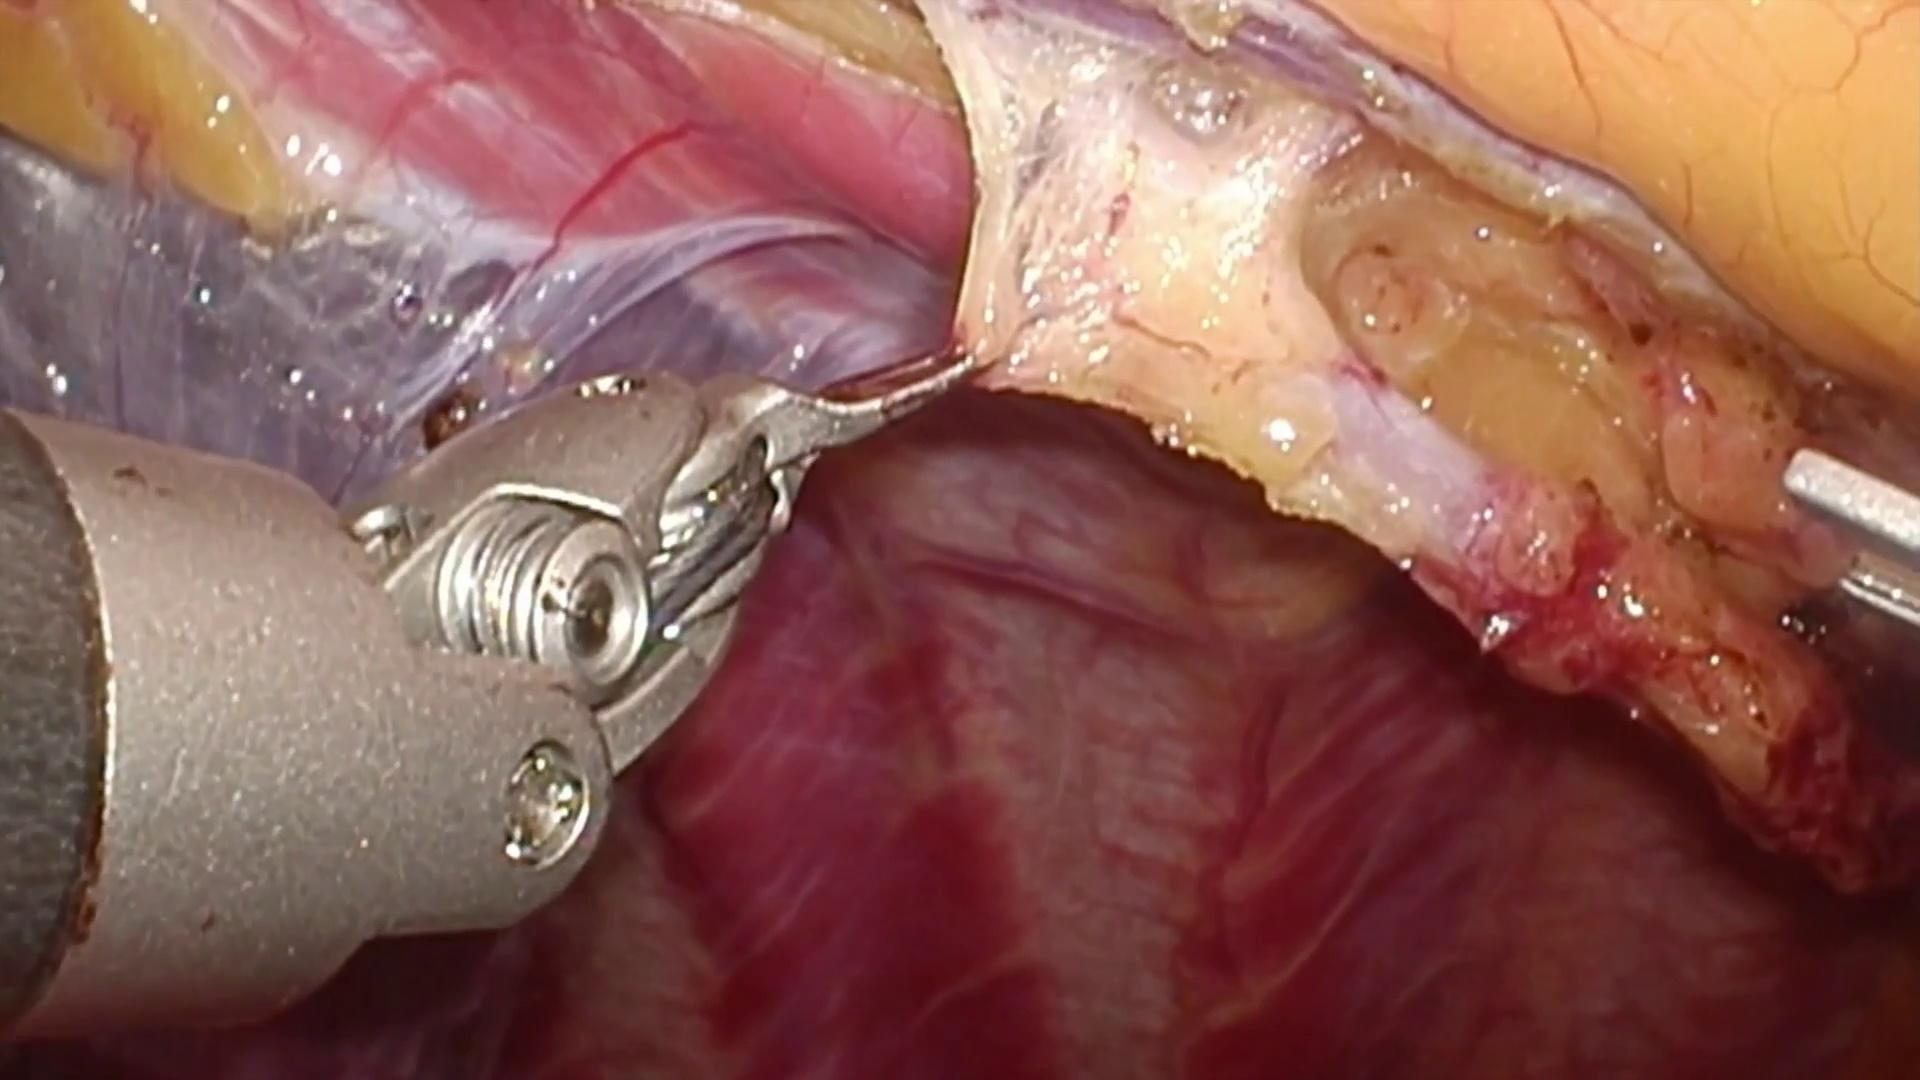Debakey: (702, 344, 980, 502)
clipper: (1785, 447, 1920, 671)
